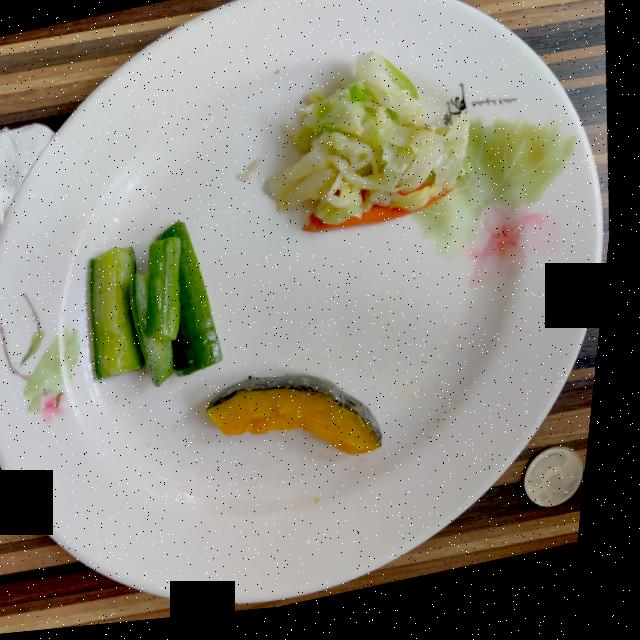cabbage: (271, 59, 473, 238)
coin: (535, 459, 593, 519)
cucumber: (95, 225, 230, 391)
pumpkin: (216, 380, 391, 463)
